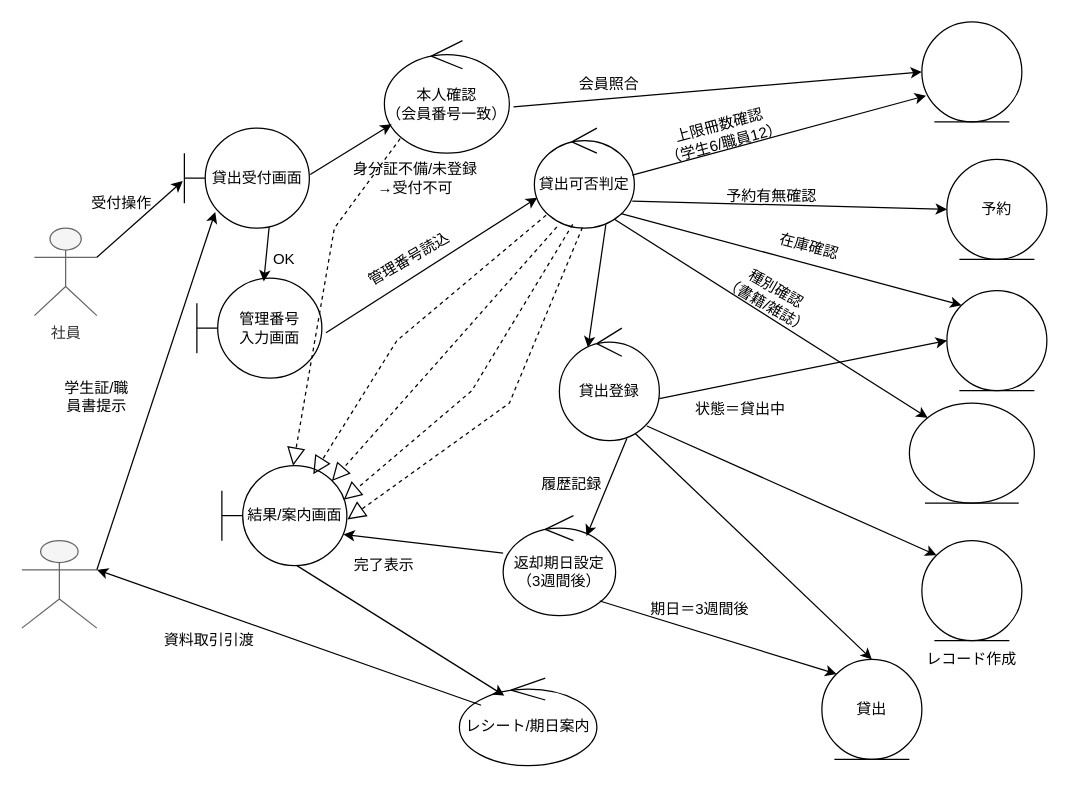
Some shapes in this 1069 by 788 pixel diagram are drawn without their labels. The box of each missing label's shape, as (x1, y1, x2, y2) in pixels:
会員: (921, 21, 1022, 122)
在庫/状態: (946, 289, 1047, 391)
学生: (21, 539, 97, 628)
貸出履歴: (921, 539, 1022, 641)
資料（書籍/雑誌）: (908, 402, 1034, 503)
